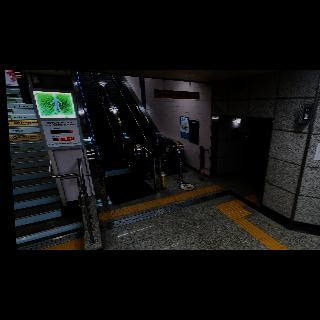anomaly: (153, 149, 171, 175)
